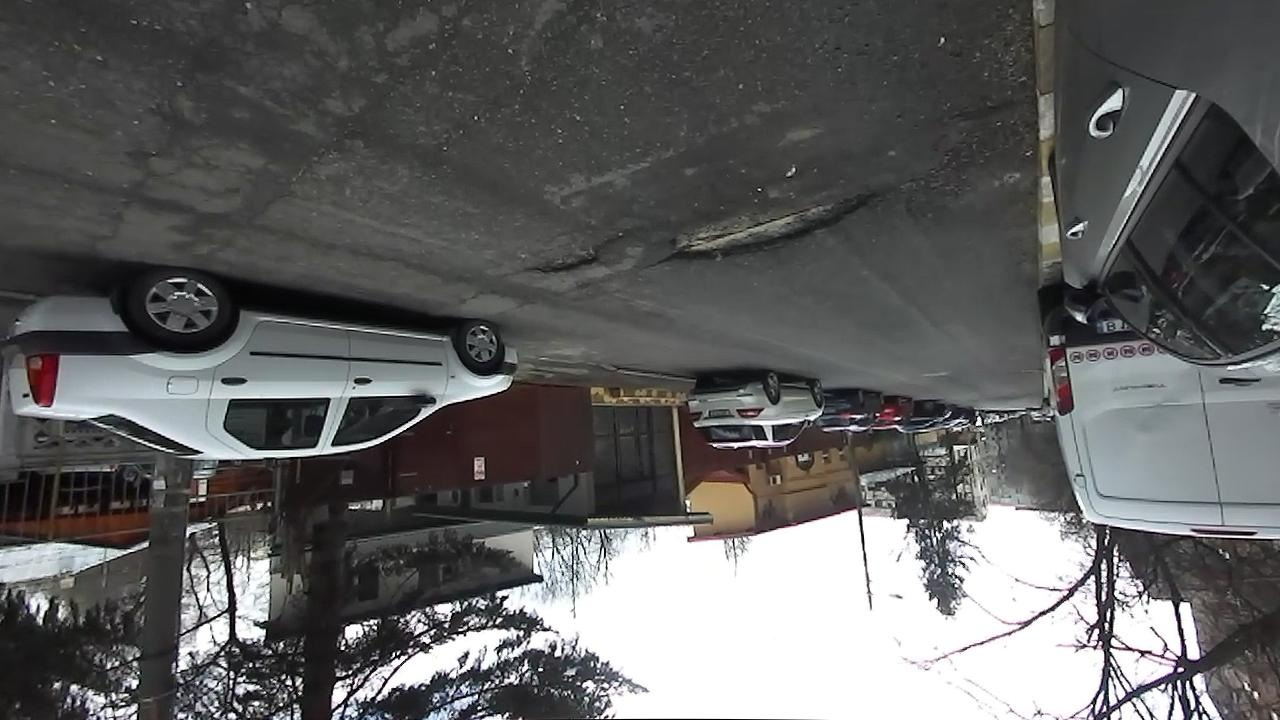pothole: (643, 181, 891, 273), (524, 231, 629, 281)
